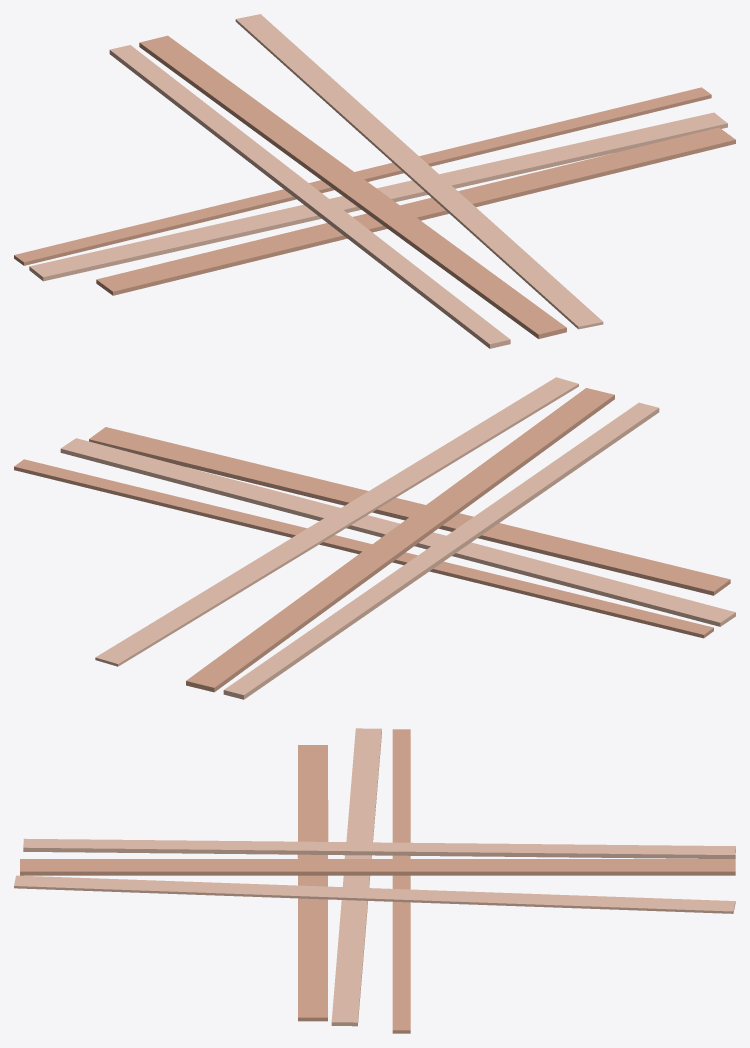
File: Quarry2.fbx
3 views of the same model, one above another, from view 1: azimuth 30°, elevation 25°; view 2: azimuth 150°, elevation 25°; view 3: azimuth 270°, elevation 25° (orthographic). The views are drawn at different scales.
Visible parts, largest first — view 1: Quarry2; view 2: Quarry2; view 3: Quarry2.
Part boxes in pixels (x1=…): Quarry2: x1=14, y1=14, x2=735, y2=348; Quarry2: x1=14, y1=377, x2=735, y2=699; Quarry2: x1=14, y1=728, x2=735, y2=1033.
Bounding box in the file's own units: 49.13 × 0.6 × 49.71.
